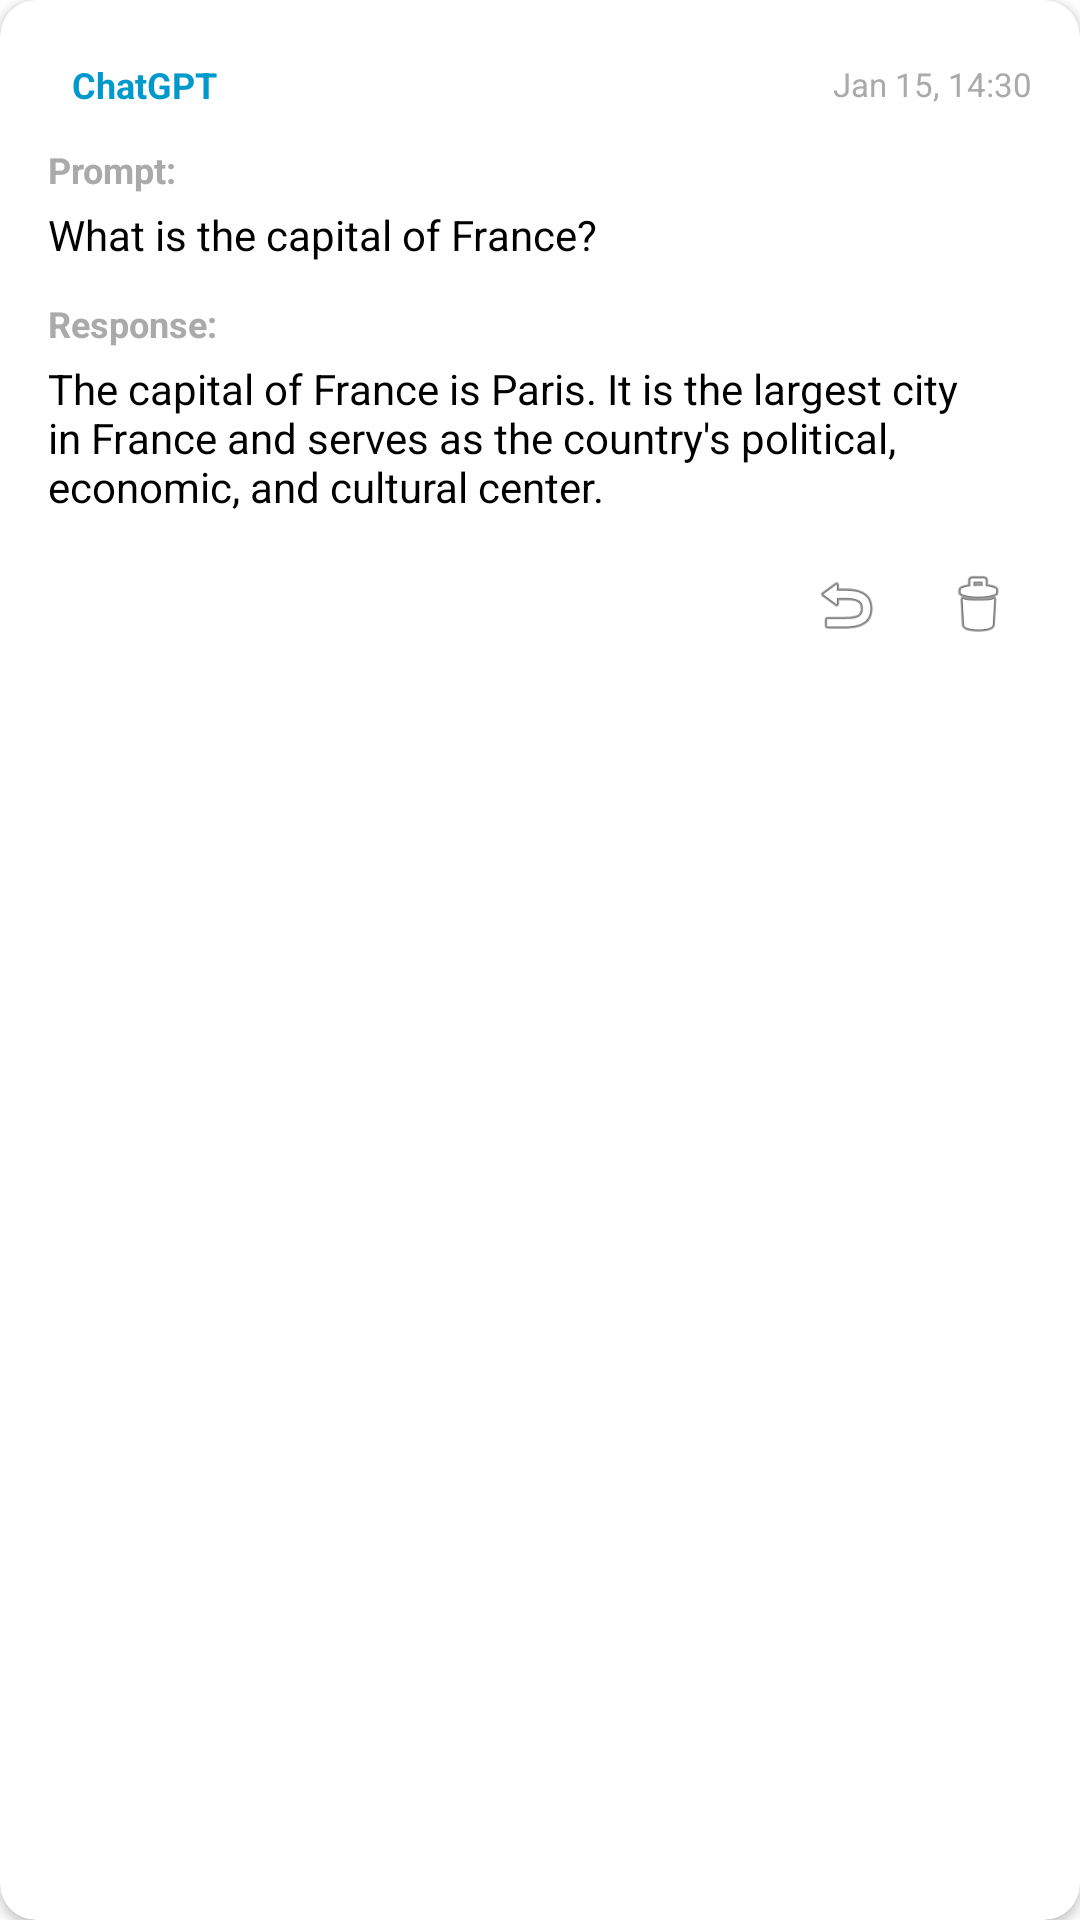

Point at icon controls on the screen. Image size 1080×1920, points as (x=x, y=y).
Delete this item: (x=978, y=604)
Reply to this: (x=847, y=605)
